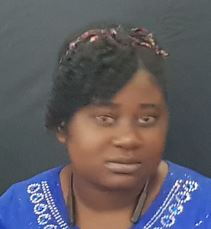without_facemask: (73, 125, 192, 212)
